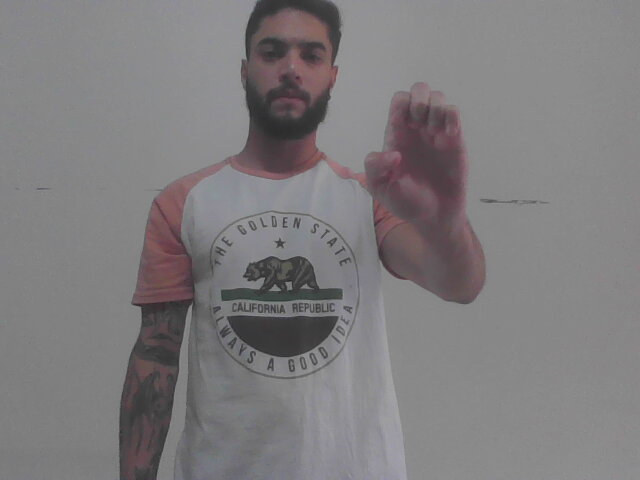e: (355, 76, 472, 240)
